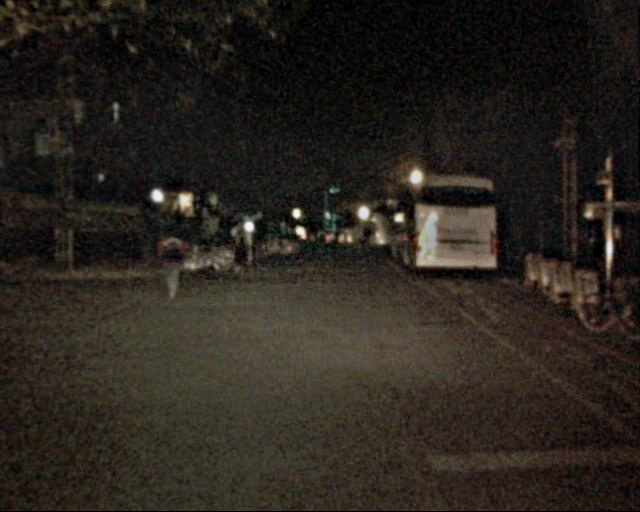person: (153, 219, 190, 309), (226, 218, 251, 279), (351, 222, 374, 262)
